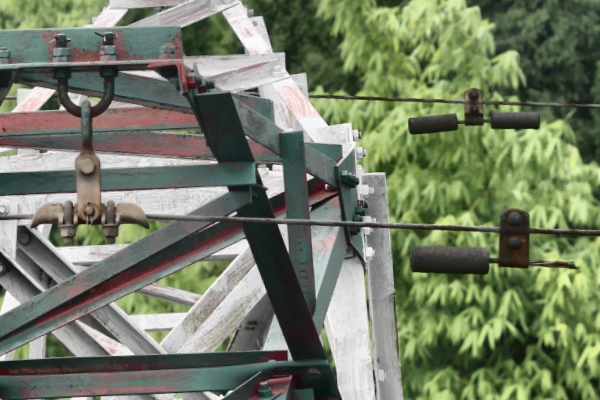damper: (405, 85, 543, 137)
damper_defect: (406, 206, 582, 278)
